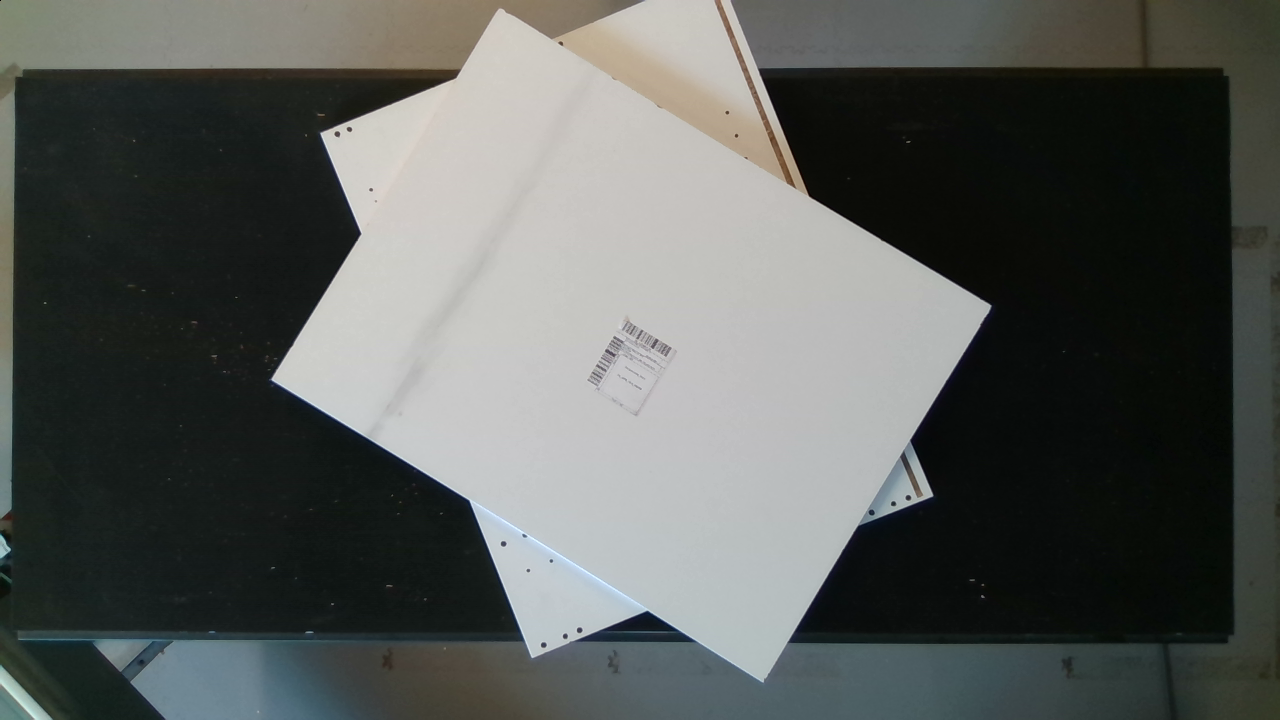barcode: (582, 314, 683, 427)
part2: (272, 19, 1004, 677)
